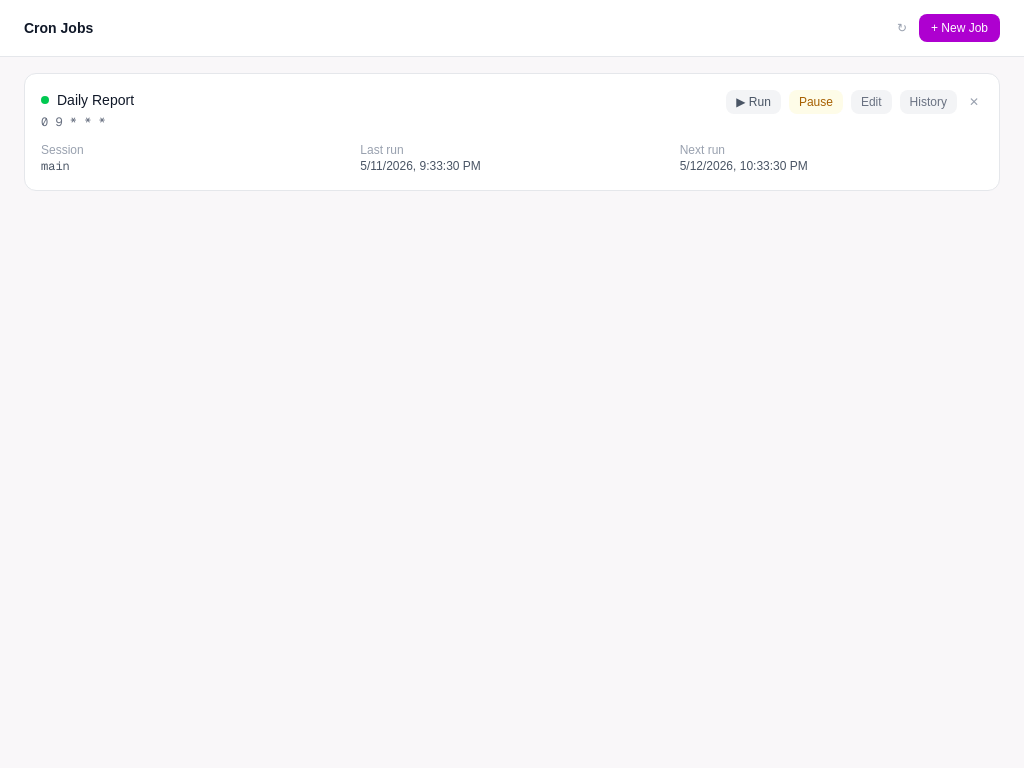
Test case: CronsPanel › history button opens RunHistory modal
The image size is (1024, 768).
Expected: the text "Daily Report" is shown, x1=57 y1=90 x2=134 y2=110
Click the button "History". click: (928, 102)
box: x1=900 y1=90 x2=957 y2=114
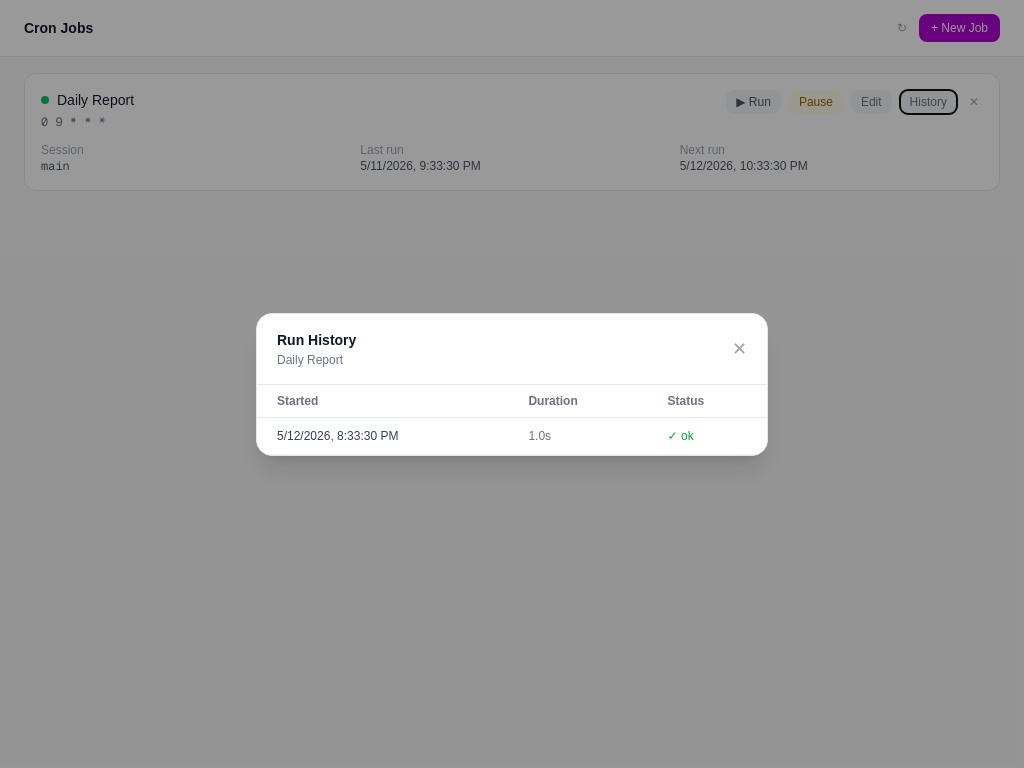
Expected: the heading "Run History" is shown, x1=277 y1=330 x2=356 y2=350
